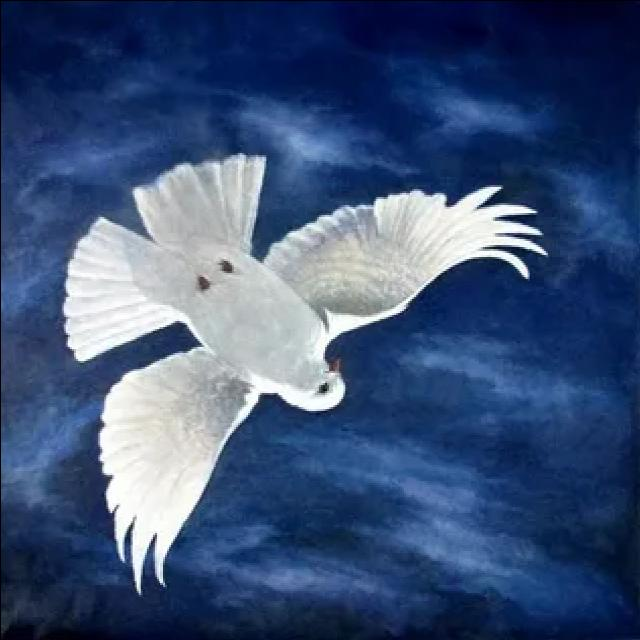pigeon: (43, 140, 563, 588)
